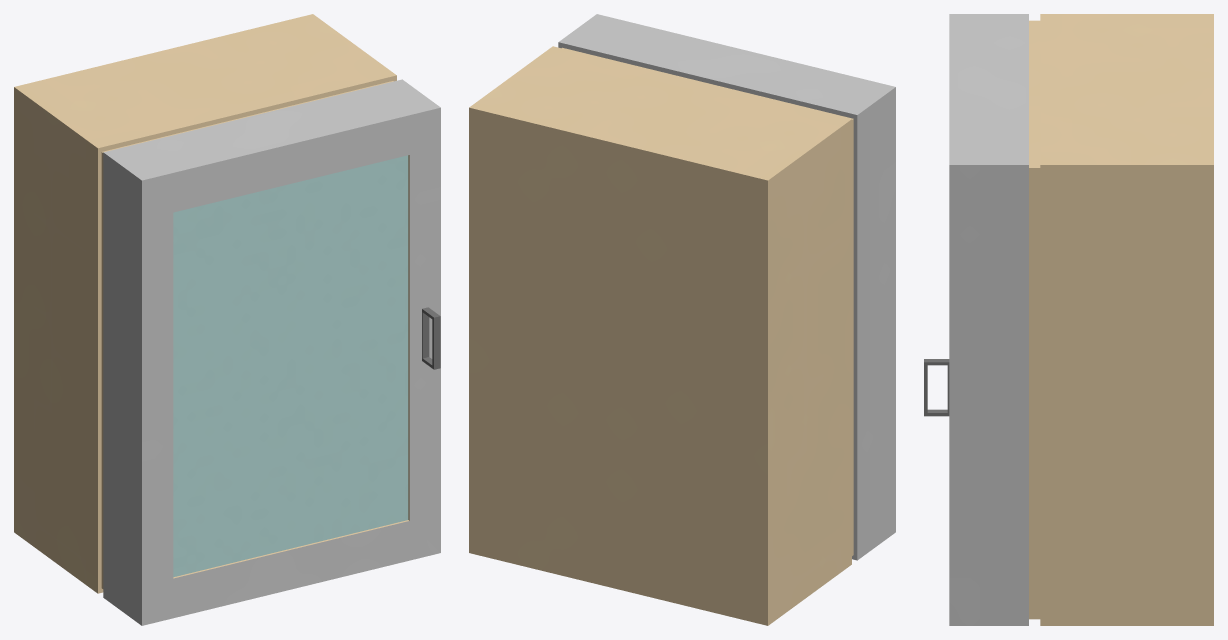
File: Mirror_03_02.fbx
3 views of the same model, side by side, from view 1: azimuth 30°, elevation 25°; view 2: azimuth 150°, elevation 25°; view 3: azimuth 270°, elevation 25° (orthographic). The views are drawn at different scales.
Visible parts, largest first — view 1: Mirror_03_02; view 2: Mirror_03_02; view 3: Mirror_03_02.
Part boxes in pixels (x1,y1,x2,y2): Mirror_03_02: (14,14,440,625); Mirror_03_02: (469,14,895,625); Mirror_03_02: (924,14,1213,625).
Size of the model in its own units: 0.7629 by 1.09 by 0.6188.
